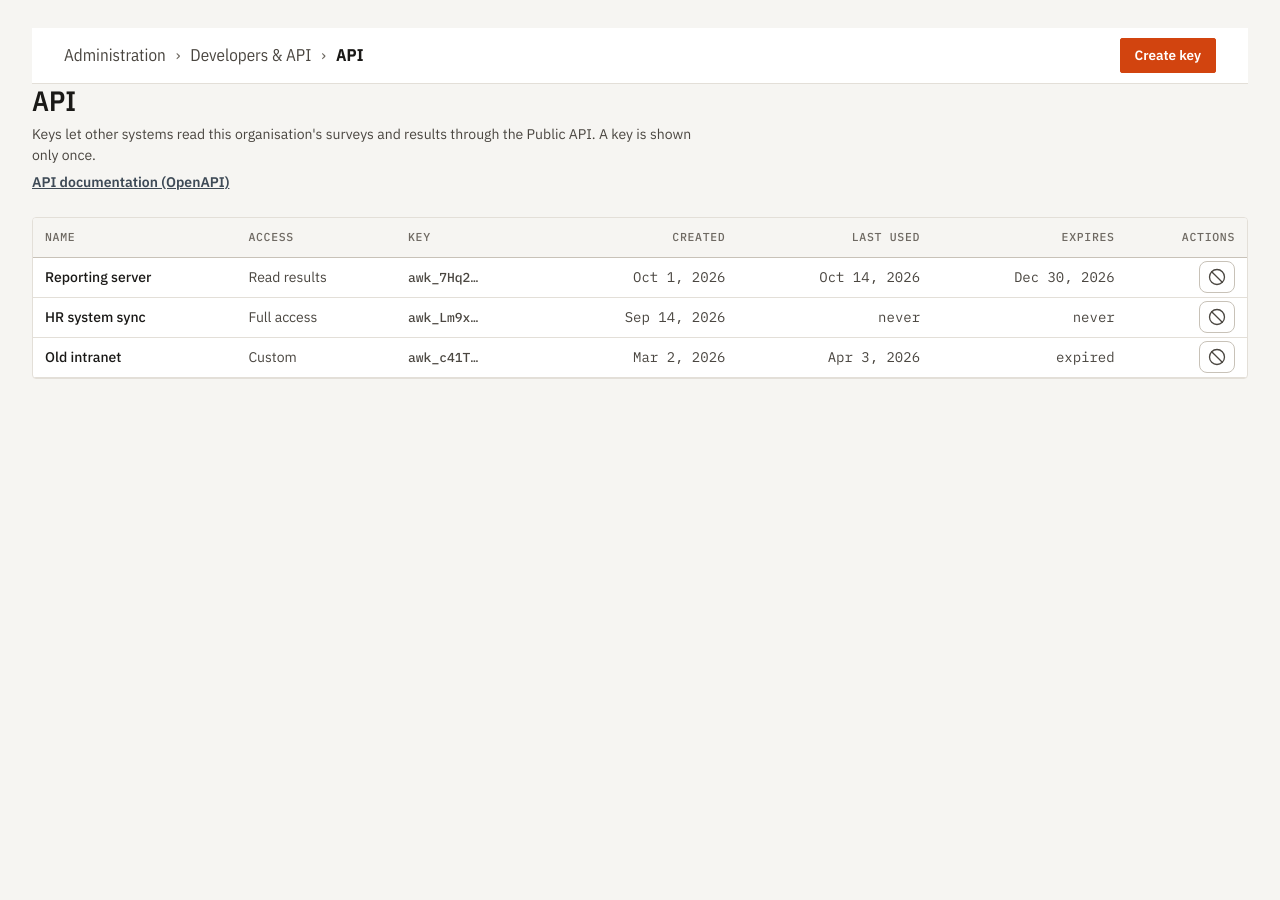
Test: Settings → API (AWK-25, W14 C and D) › revokes a key after asking
The image size is (1280, 900).
Expected: the heading "API" is shown, x1=32 y1=82 x2=76 y2=119
What coordinates should you click on to do the following:
click the button named "Revoke Reporting server"
I would click on:
 (1217, 277)
Its box is x1=1200 y1=262 x2=1234 y2=292.
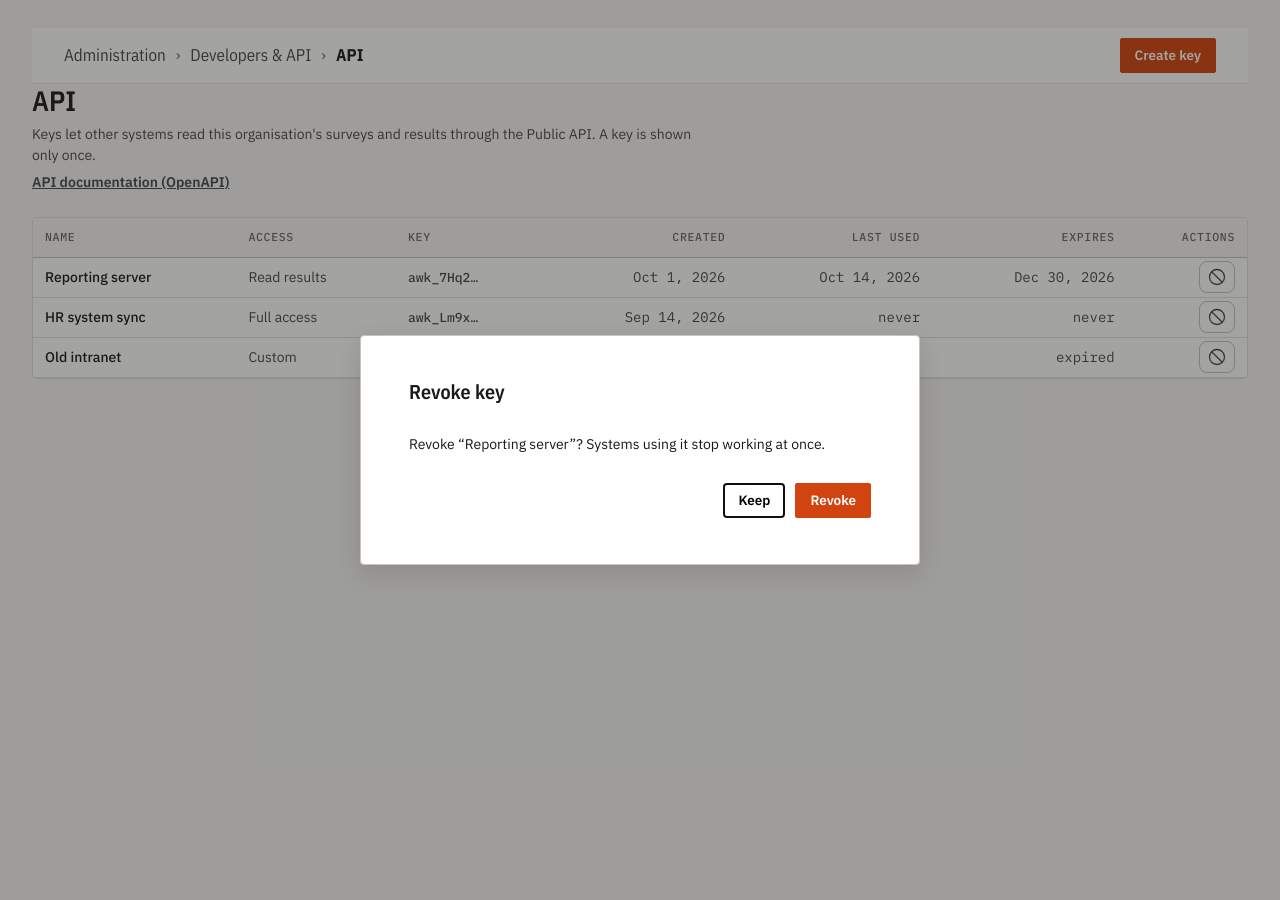
Expected: the text "Revoke “Reporting server”? Systems using it stop working at once." is shown, x1=409 y1=434 x2=871 y2=455
What coordinates should you click on to do the following:
click the button "Revoke"
I would click on:
 (833, 501)
Its box is x1=796 y1=483 x2=871 y2=518.
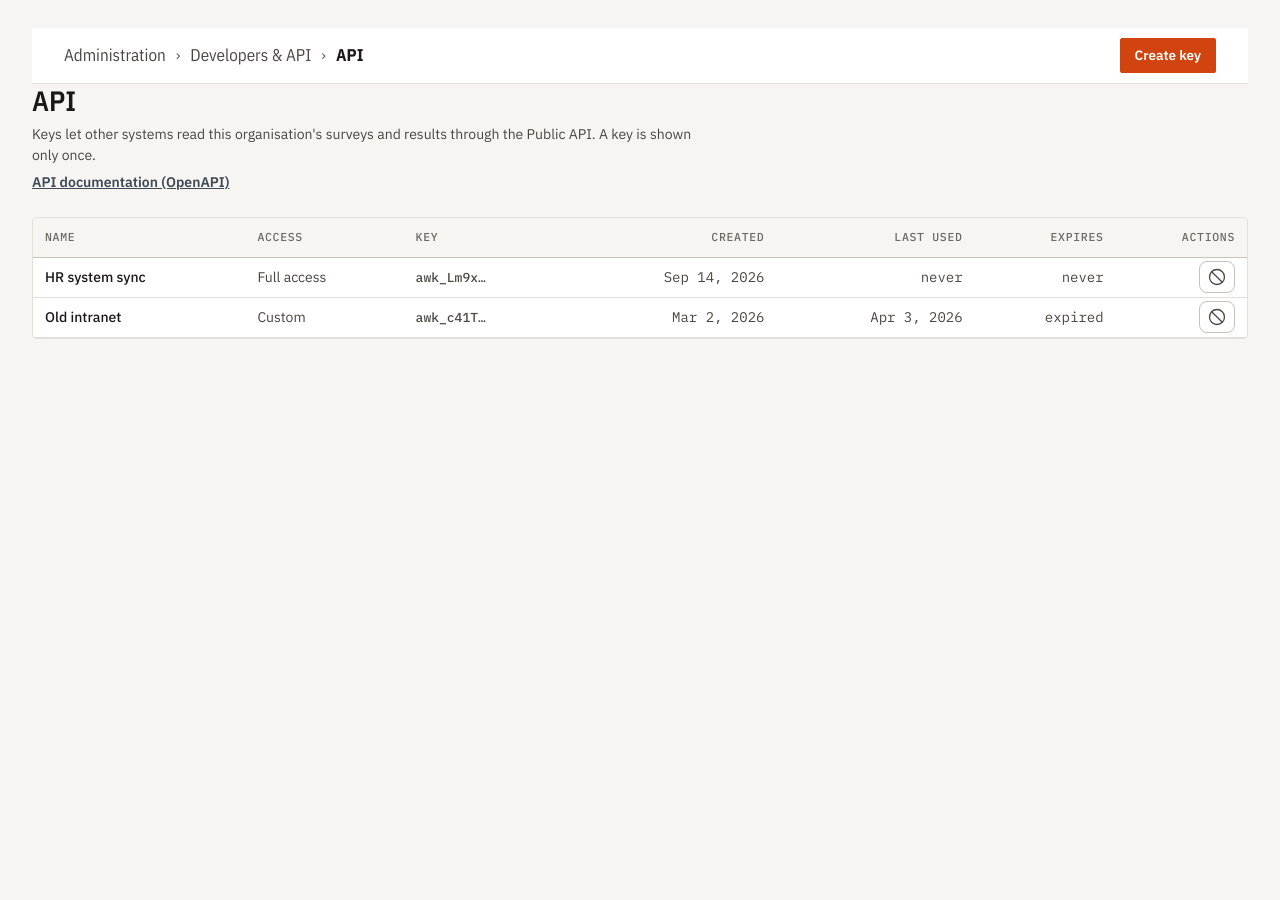
Expected: the text "Reporting server" is gone
